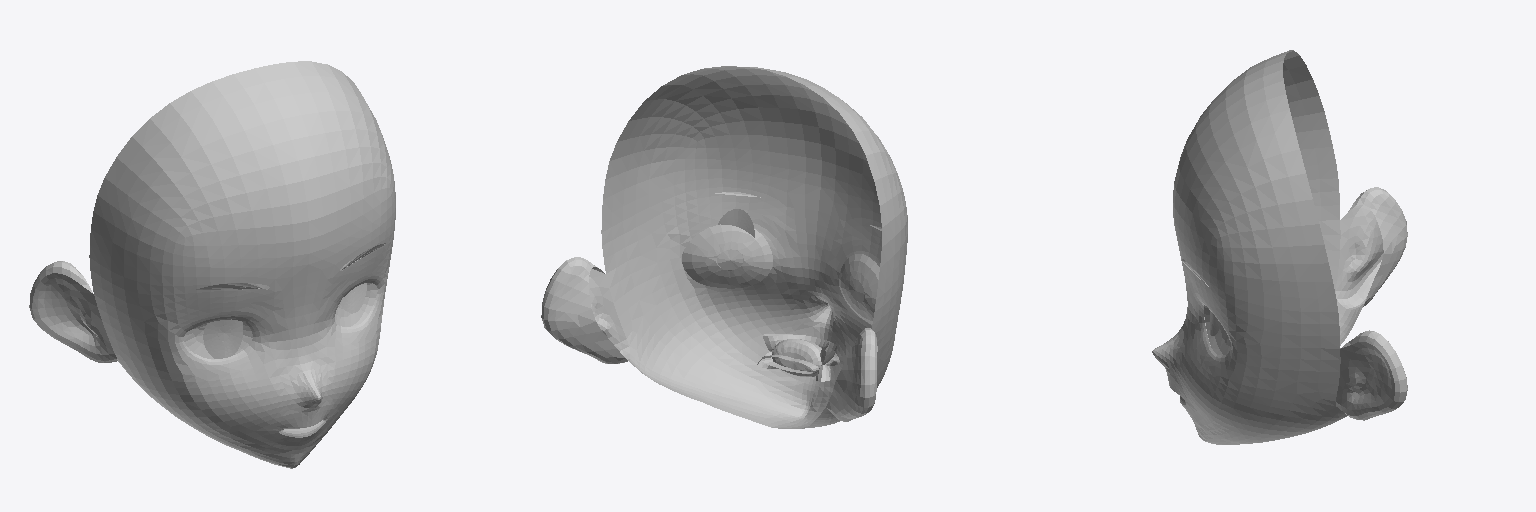
The model's file is eyeLookUpLeft.obj.
3 renders of one model, left to right at view 1: azimuth 30°, elevation 25°; view 2: azimuth 150°, elevation 25°; view 3: azimuth 270°, elevation 25°, orthographic.
Visible parts, largest first — view 1: Face; view 2: Face; view 3: Face.
Part boxes in pixels (left/top/right/bottom): Face: left=29, top=61, right=395, bottom=468; Face: left=541, top=66, right=907, bottom=428; Face: left=1152, top=50, right=1407, bottom=444.
Bounding box in the file's own units: 0.2176 × 0.2333 × 0.1449.